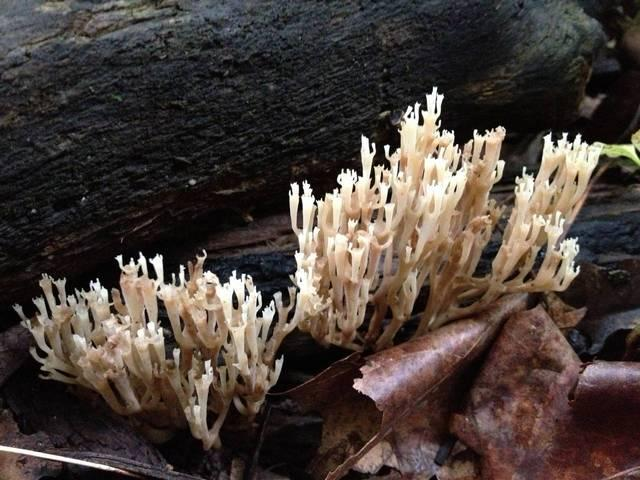edible_mushroom: (286, 84, 603, 353), (12, 247, 301, 451)
